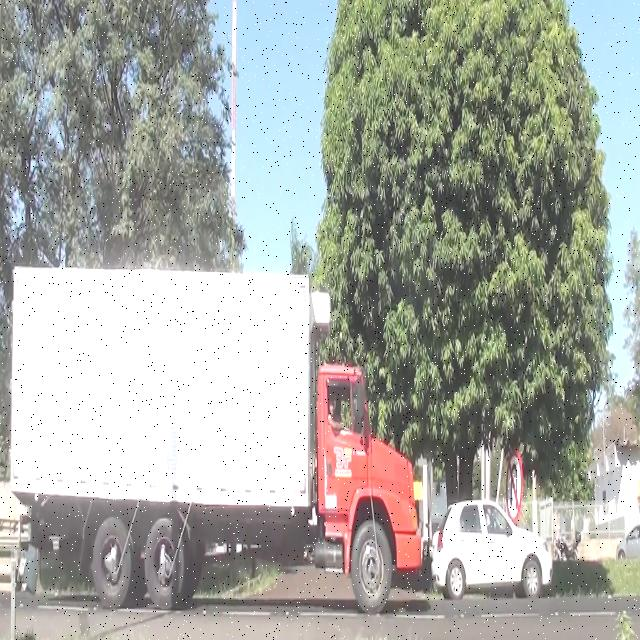-axle: (144, 518, 187, 610), (350, 523, 394, 609), (93, 518, 132, 606)
